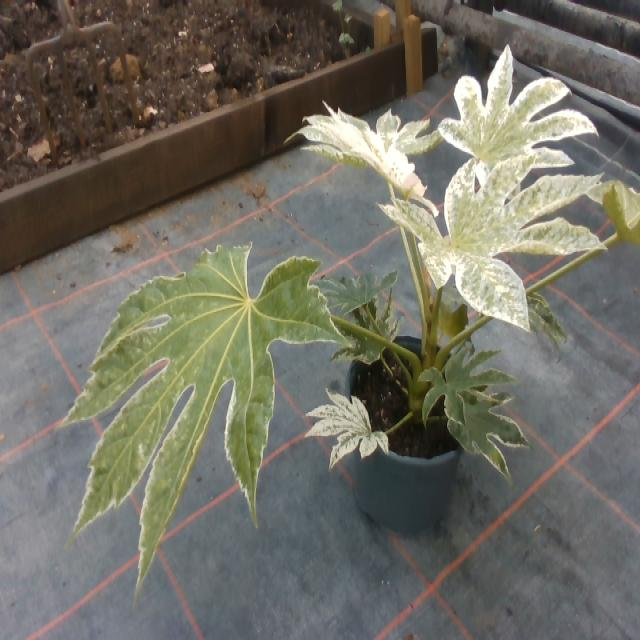Fatsia-japonica: (57, 208, 305, 555), (378, 168, 606, 340), (446, 56, 578, 187), (309, 95, 433, 202), (287, 86, 441, 166), (439, 374, 529, 469), (298, 377, 381, 466), (310, 246, 388, 321), (417, 352, 492, 420), (333, 298, 399, 370), (585, 159, 640, 236)
